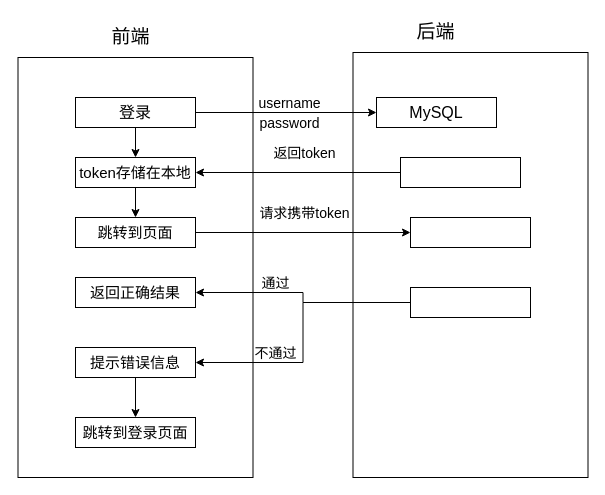
This 605x495 diagram has some shape labels left out. Here are the shapes that lost their labels. From the top down, the centre of each, then its label:
(460,172): token
(470,232): 过滤器
(470,302): 校验结果
